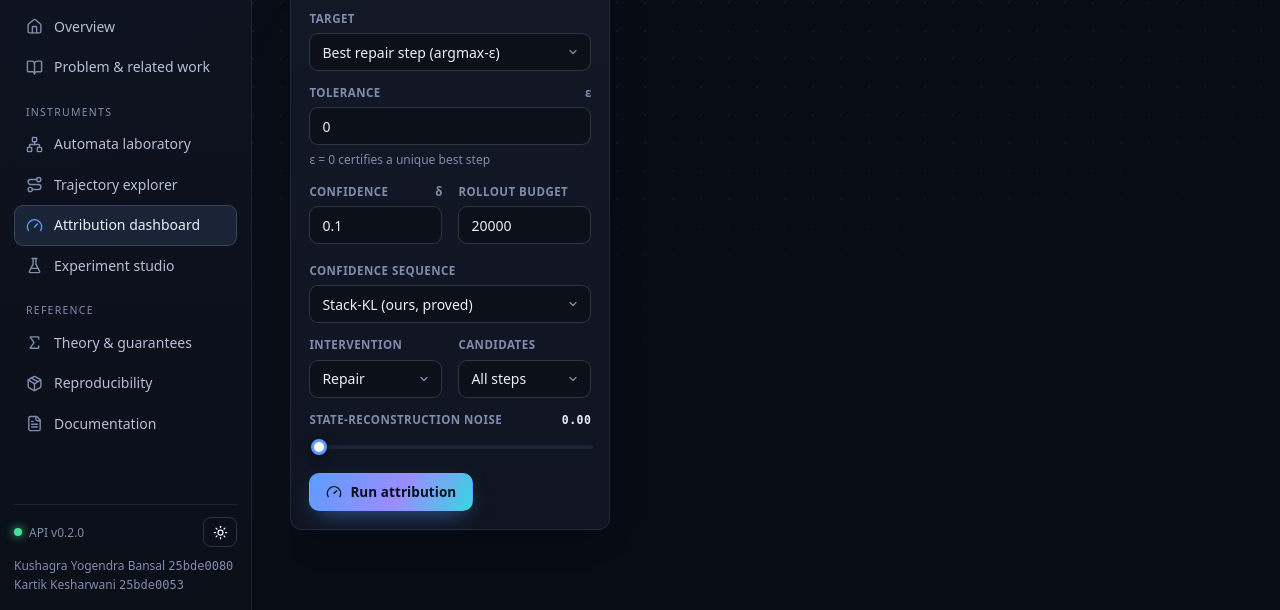
Test case: attribution dashboard › runs the algorithm via the API and renders its outputs
(page scrolled)
Click the button with test id "run-attribution" at (391, 492), box [309, 473, 473, 511]
(page scrolled)
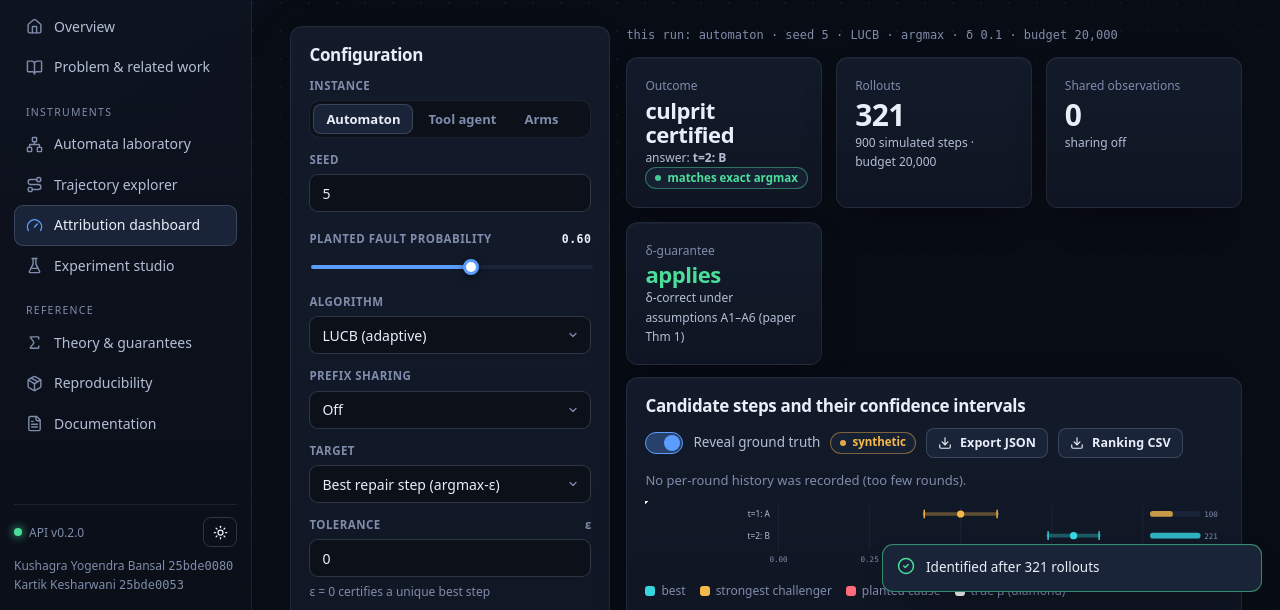
Expected: the text "culprit certified" is shown, [645, 94, 734, 149]
Expected: the text "321" is shown, [855, 94, 905, 134]
Expected: the text "δ-guarantee" is shown, [645, 242, 715, 259]
